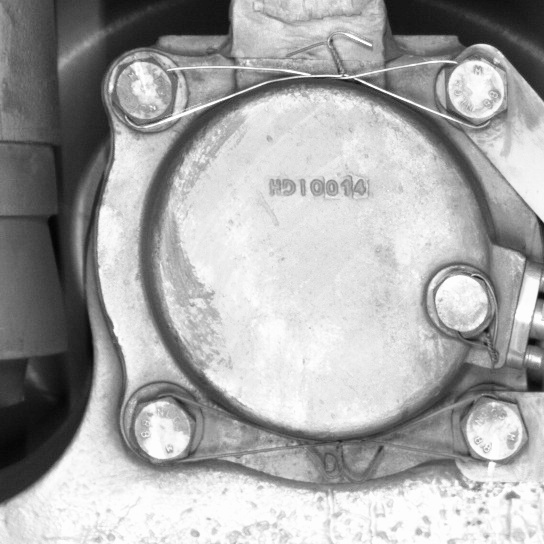IronWire: (104, 45, 514, 131), (122, 389, 535, 471)
Screw: (122, 388, 204, 473), (453, 390, 534, 470), (438, 45, 513, 131), (105, 51, 181, 129), (423, 264, 498, 340)
